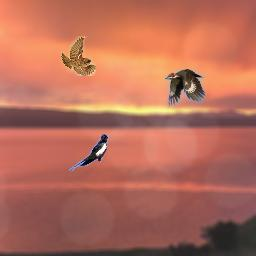Sparrow: (61, 36, 96, 76)
Swallow: (69, 134, 109, 171)
Woodpecker: (165, 69, 205, 108)
